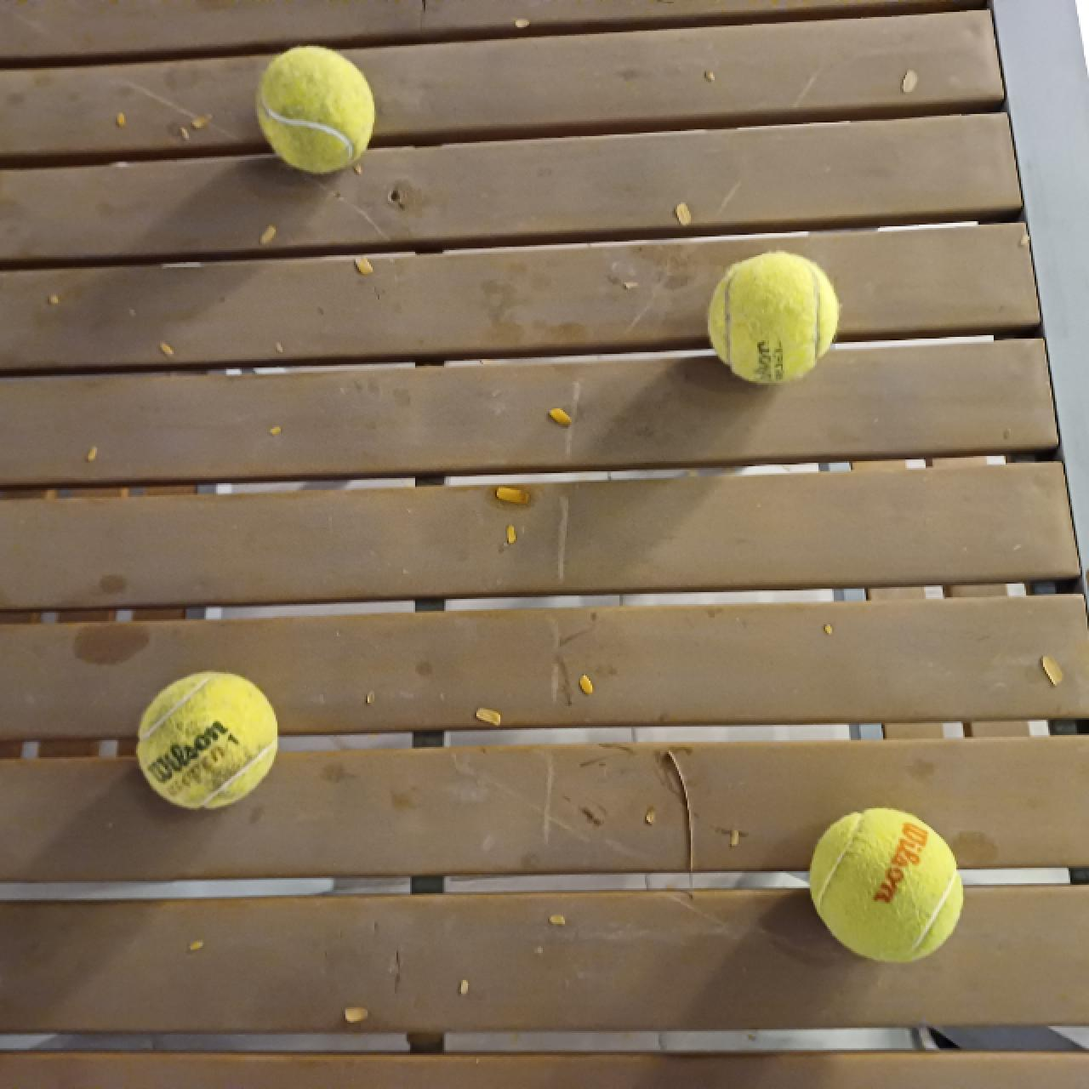tennis-ball: (804, 804, 964, 959), (134, 668, 280, 812), (705, 251, 840, 385), (255, 45, 376, 173)
